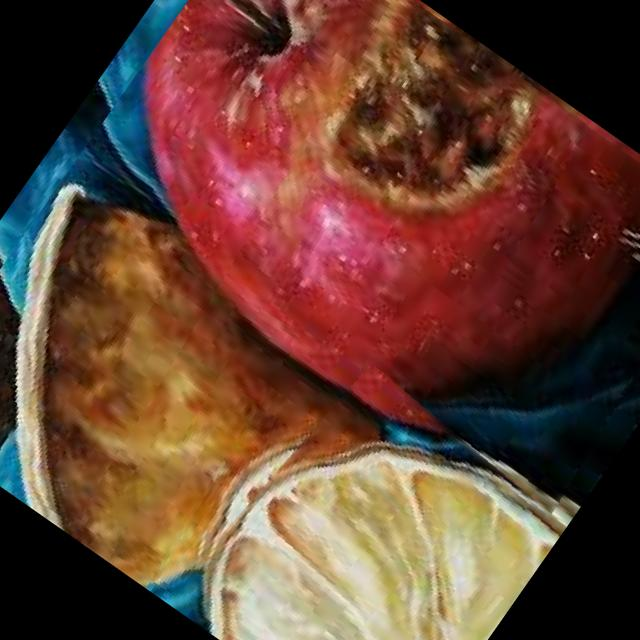Organic: (0, 0, 640, 640), (170, 343, 579, 640)
